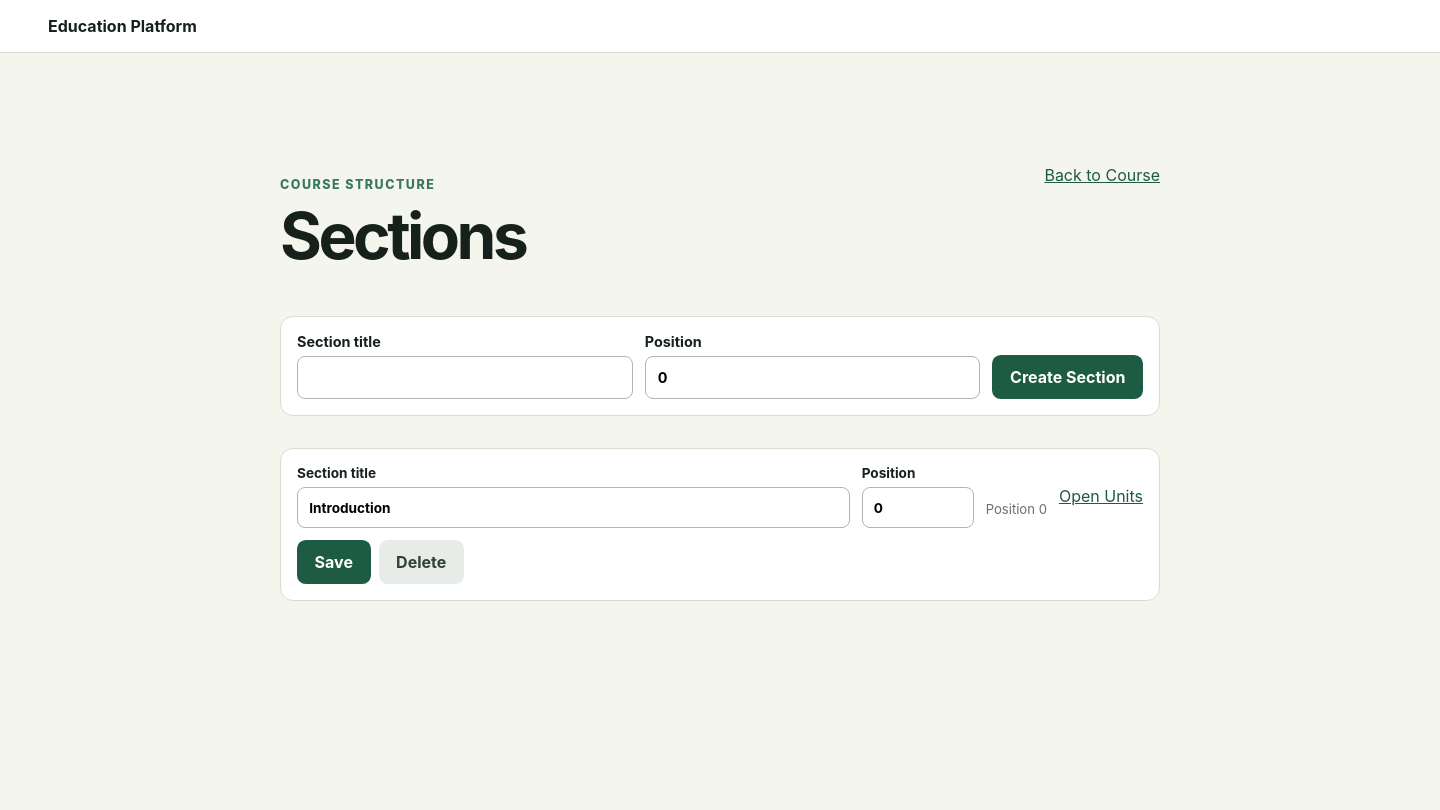
Test: Section UI › deletes a Section and refetches the list
Step 1. Click the button "Delete" → (421, 562), box [378,540,464,584]
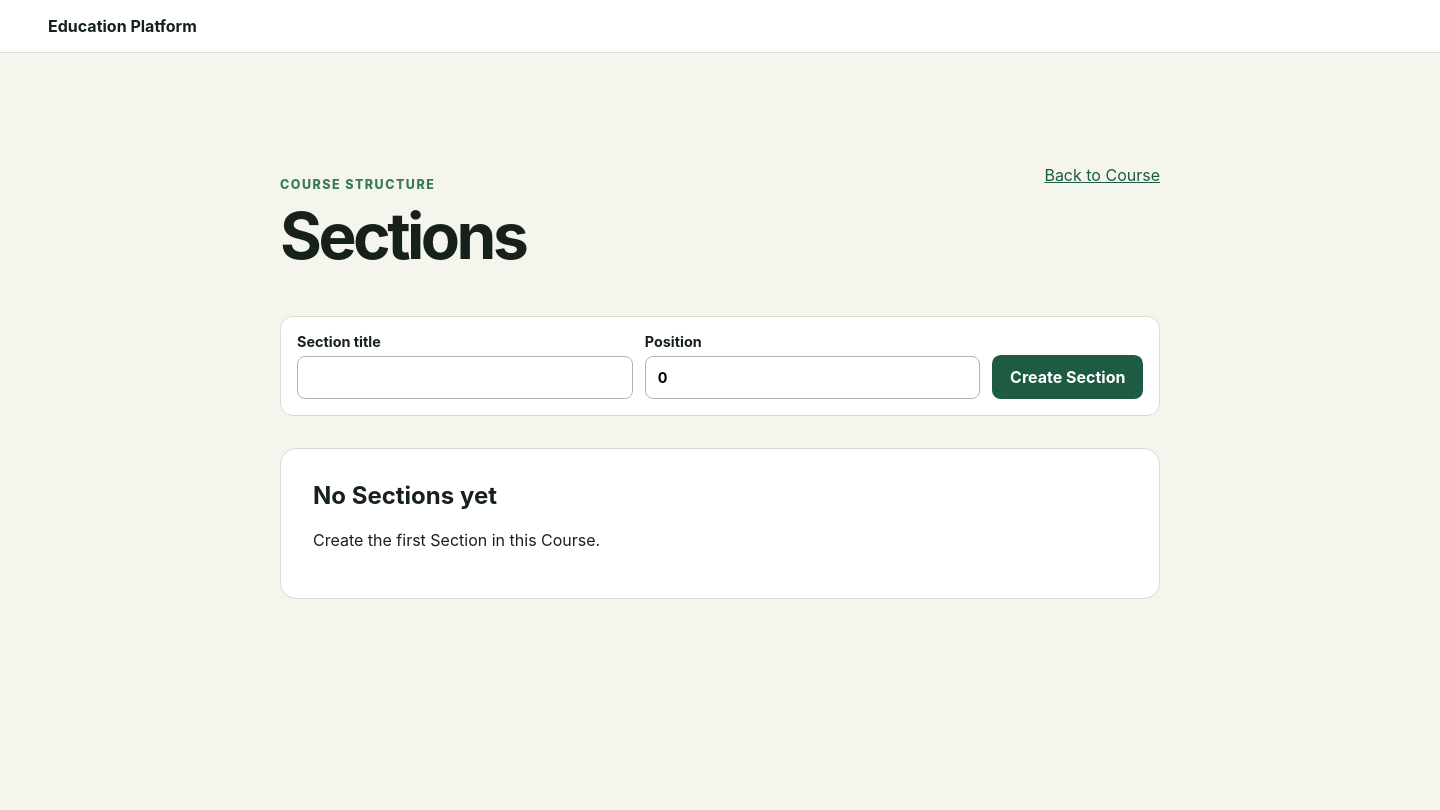
Expected: the heading "No Sections yet" is shown, [313,481,497,510]
